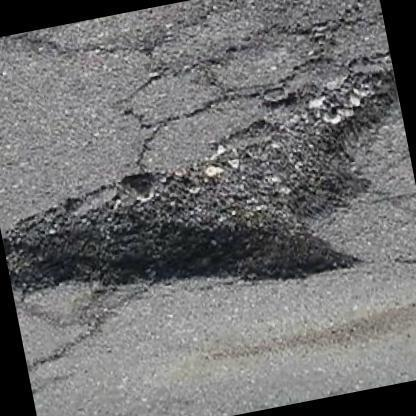pothole: (1, 58, 410, 294)
